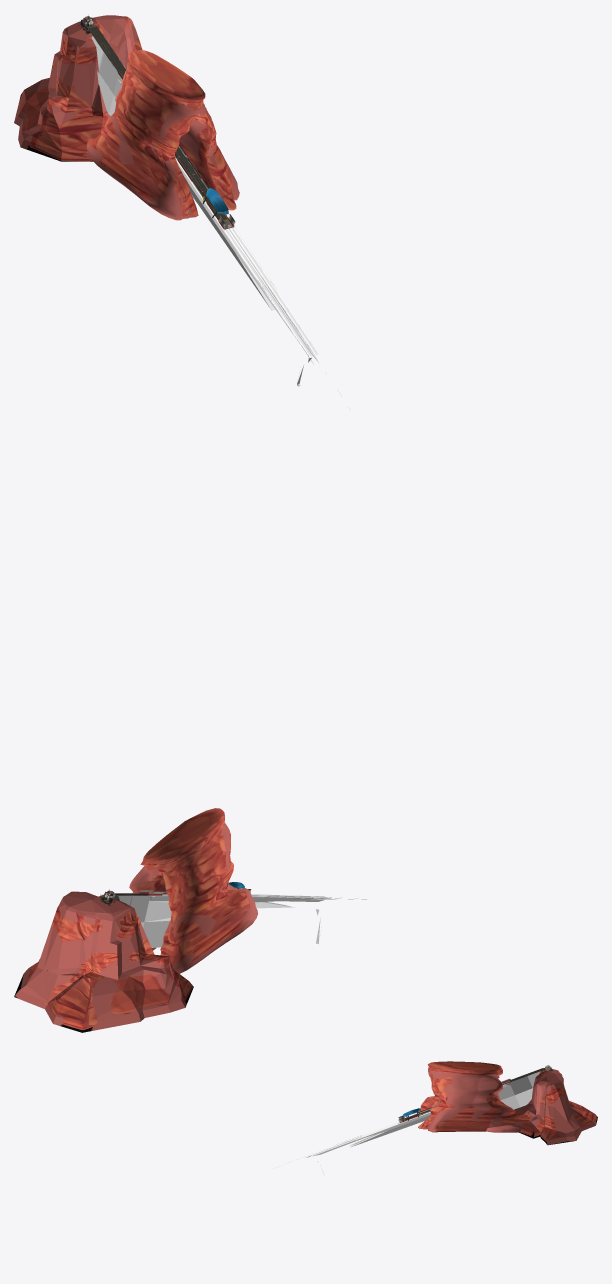
File: LOS TRES JUANES ATARFE PISTA DE PATINETAS AML333.glb
3 views of the same model, one above another, from view 1: azimuth 30°, elevation 25°; view 2: azimuth 150°, elevation 25°; view 3: azimuth 270°, elevation 25° (orthographic). The views are drawn at different scales.
Visible parts, largest first — view 1: obj15, obj14, obj16, obj10; view 2: obj14, obj15, obj16; view 3: obj15, obj14, obj19, obj16.
Boxes of the visible parts, x1,y1,x2,y2 form: obj15: (86,50,239,220); obj14: (14,15,142,161); obj16: (91,36,337,399); obj10: (88,26,227,219); obj14: (14,891,193,1032); obj15: (129,808,257,973); obj16: (120,895,366,947); obj15: (418,1061,528,1132); obj14: (514,1069,597,1145); obj19: (310,1072,539,1162); obj16: (303,1071,540,1175).
Size of the model in its own units: 5.32 by 12.24 by 31.43.
Materials: 19 (17 with a texture image).
